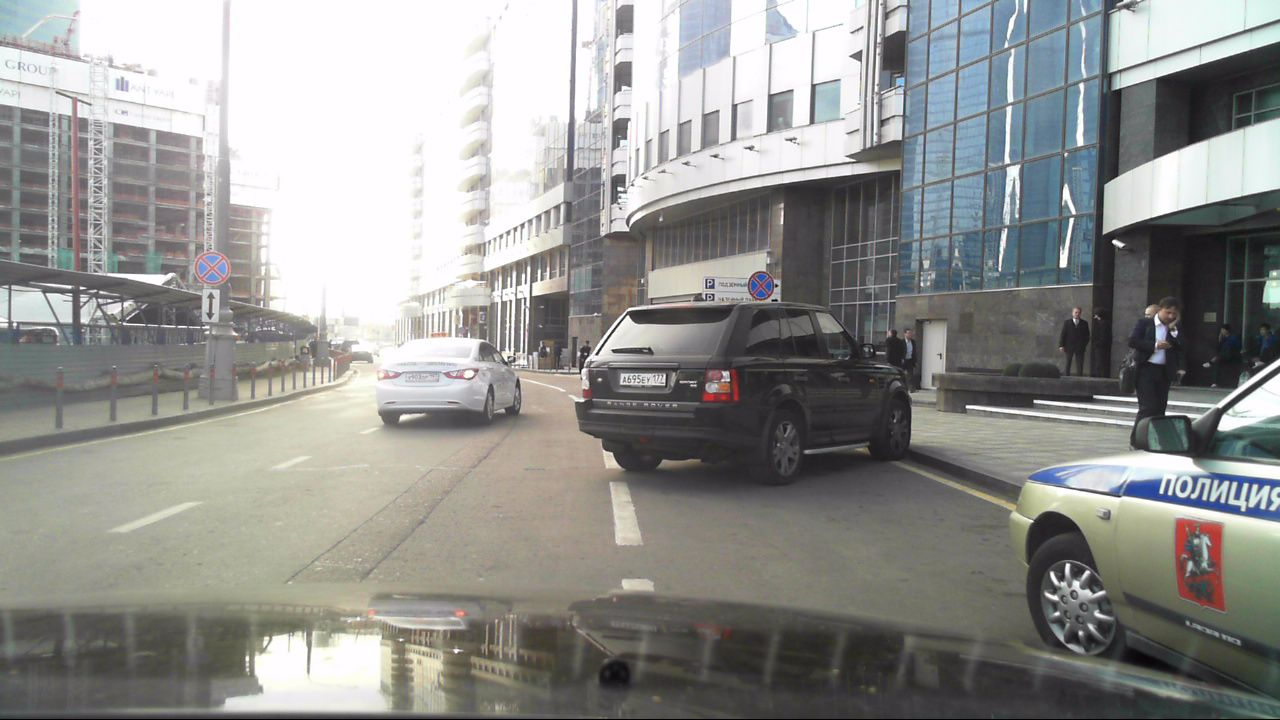No Parking: (746, 269, 775, 302)
